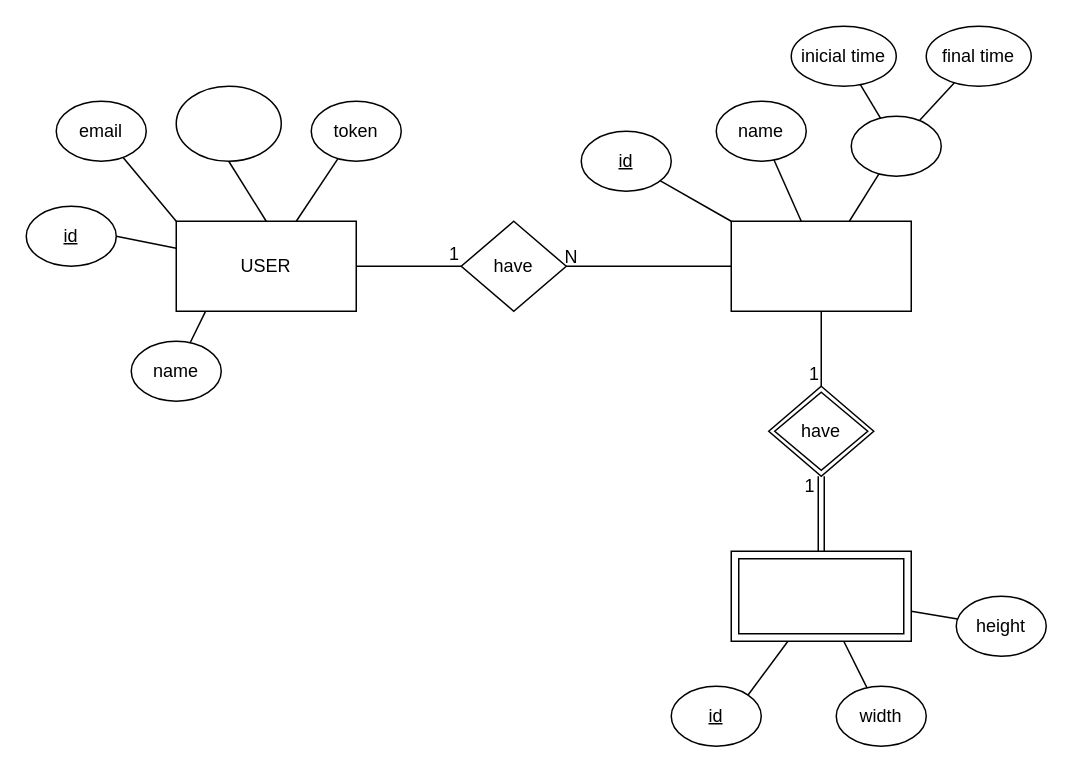
The diagram is 1073 pixels wide and 773 high, and some of its shapes have lost their labels. Here are the shapes that lost their labels. From the top down, the centre of each, then its label:
point (228, 123): password
point (895, 145): time
point (820, 265): ROBOT
point (820, 595): AREA
